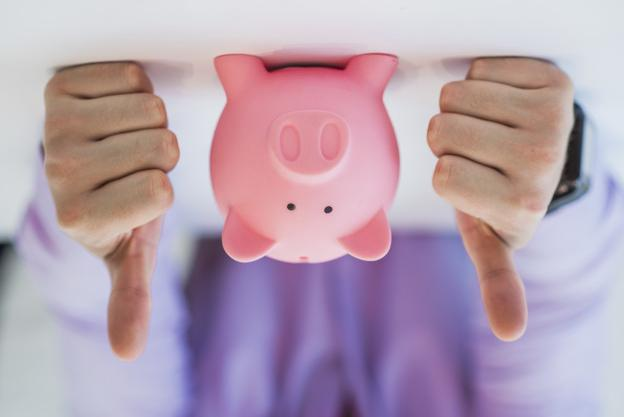thumbsdown: (427, 55, 575, 342), (41, 62, 180, 362)
